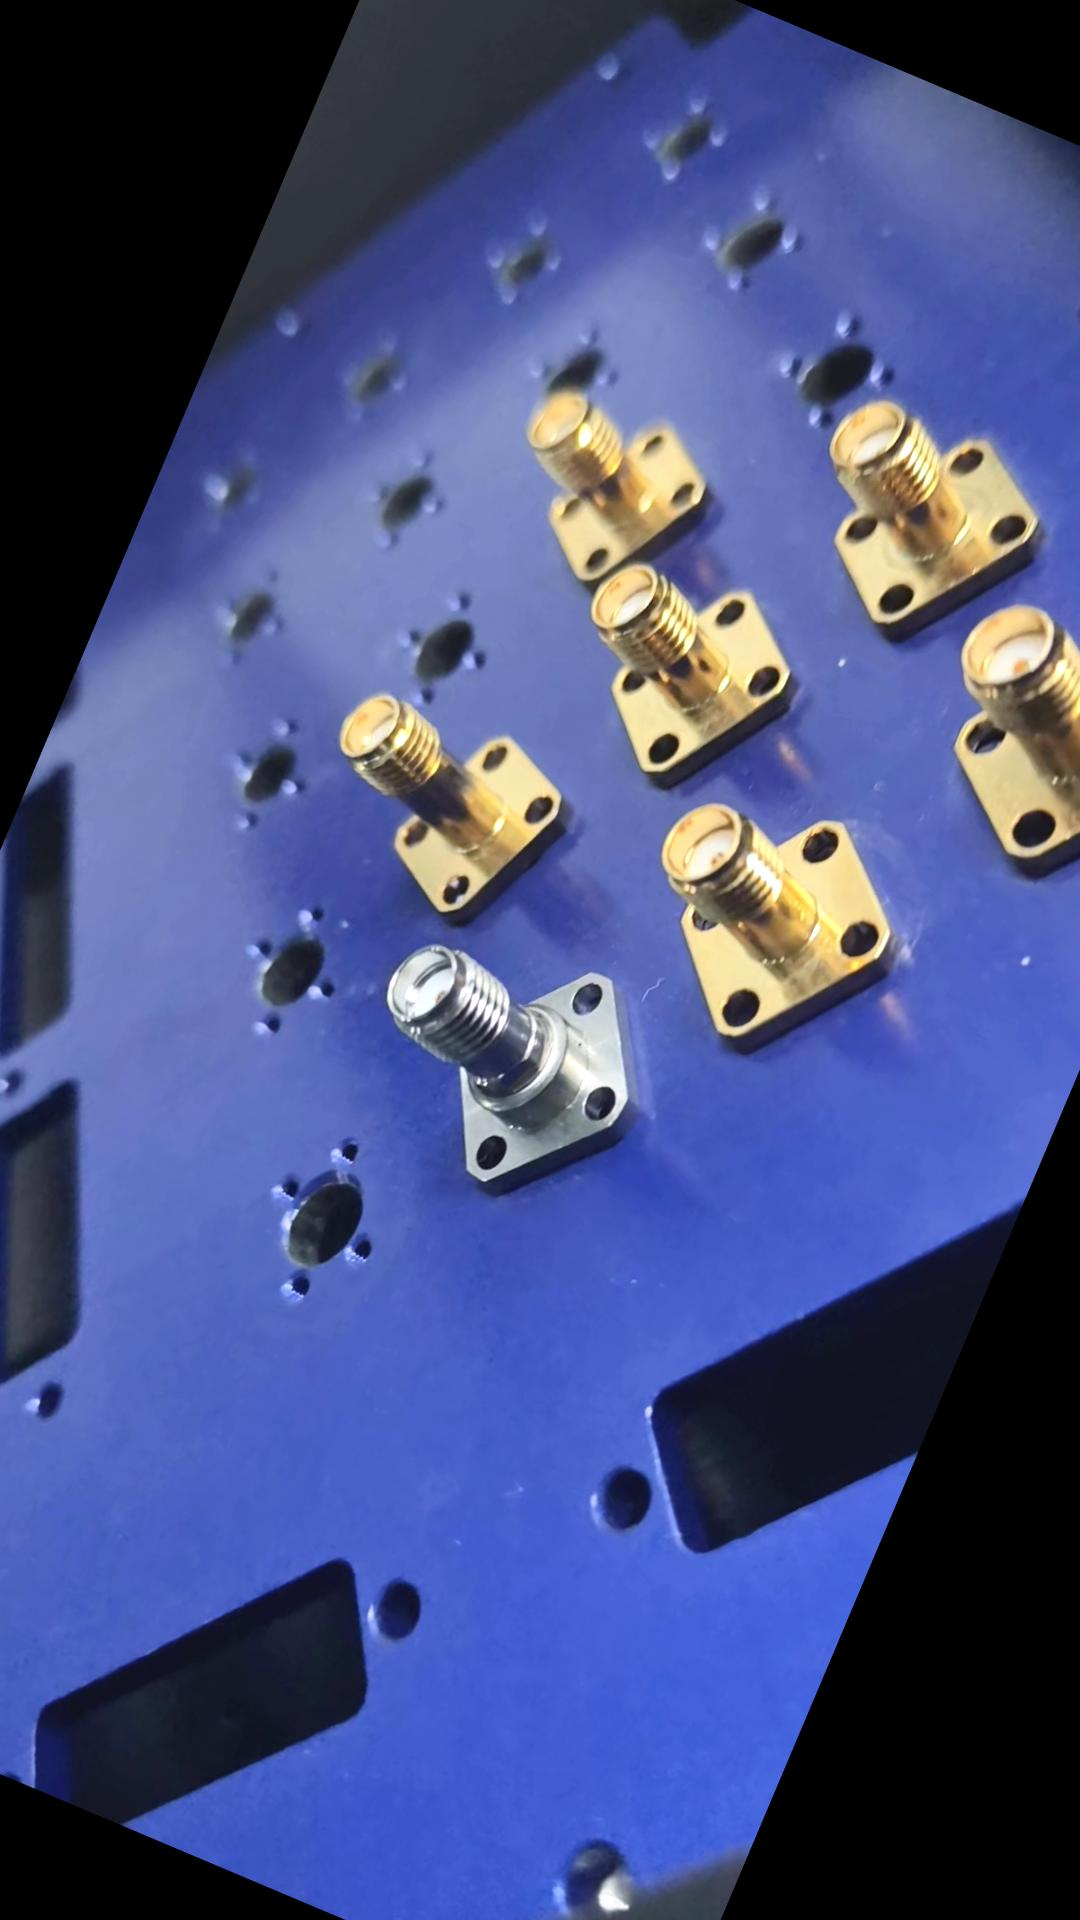SMA: (393, 887, 740, 1220), (146, 738, 472, 1065), (44, 342, 335, 645), (510, 669, 804, 944), (278, 514, 539, 799), (0, 533, 214, 873), (386, 363, 641, 616)
